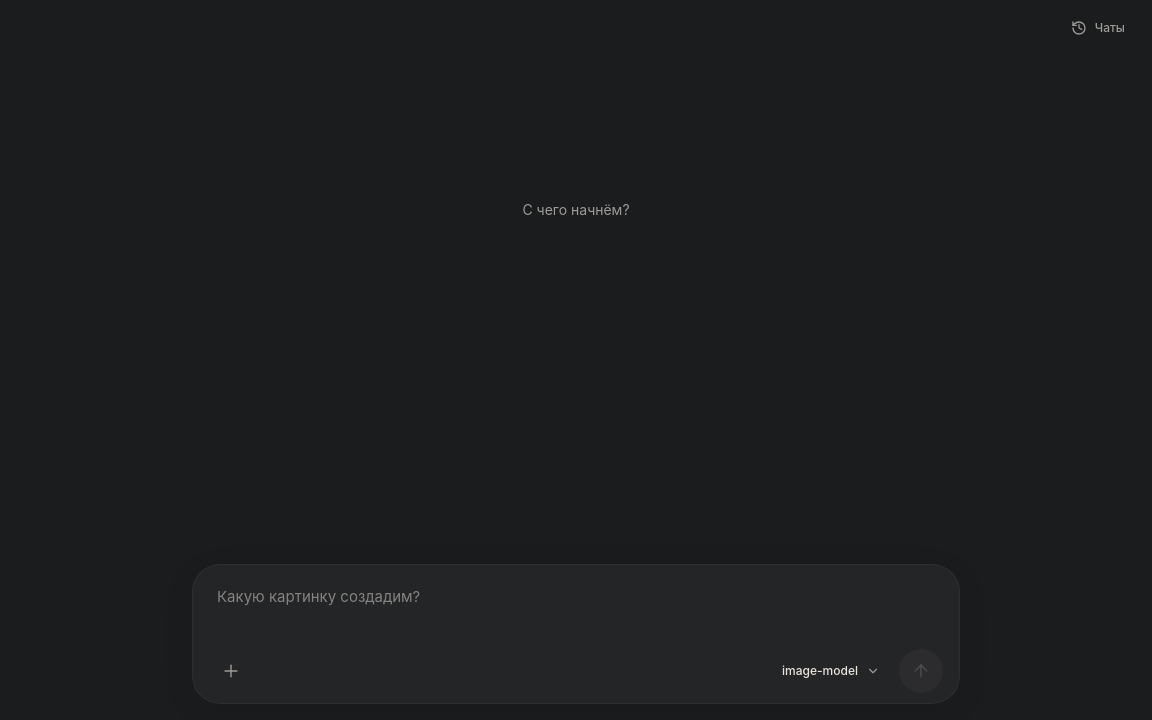
Scenario: universal chat composer › falls back to valid defaults when persisted image settings are corrupt
Expected: the text "image-model" is shown, [782,663,858,679]
Click the button with aria-label "Выбрать модель" at {"x": 831, "y": 671}, box [771,655,891,687]
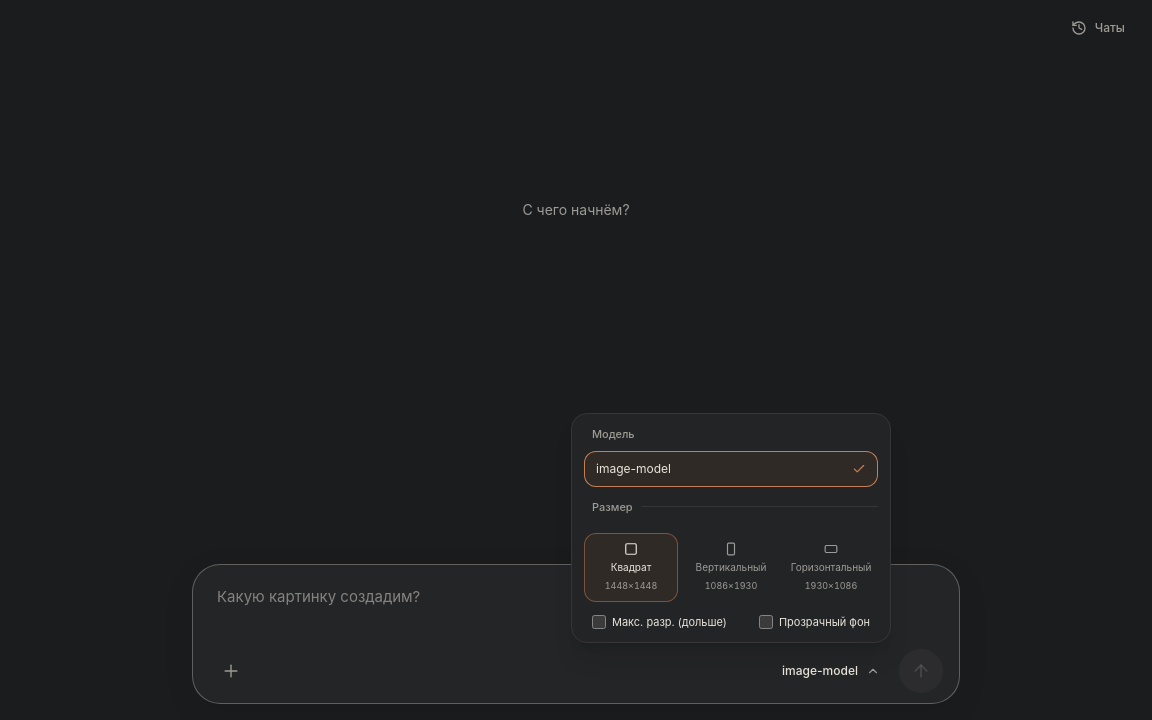
Result: the radio button labelled "Квадрат 1448×1448" is checked at [584,533,678,602]
Result: the checkbox labelled "Прозрачный фон" is not checked at [759,615,773,629]
